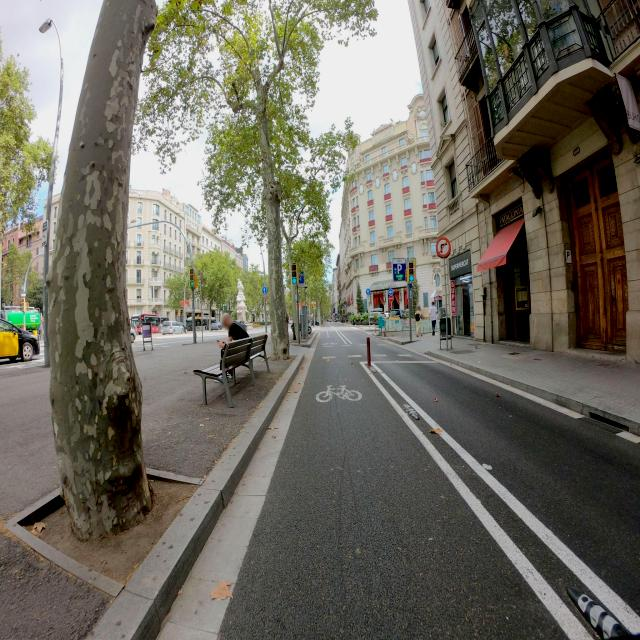car: (0, 306, 40, 366), (162, 321, 187, 334), (210, 320, 221, 330)
